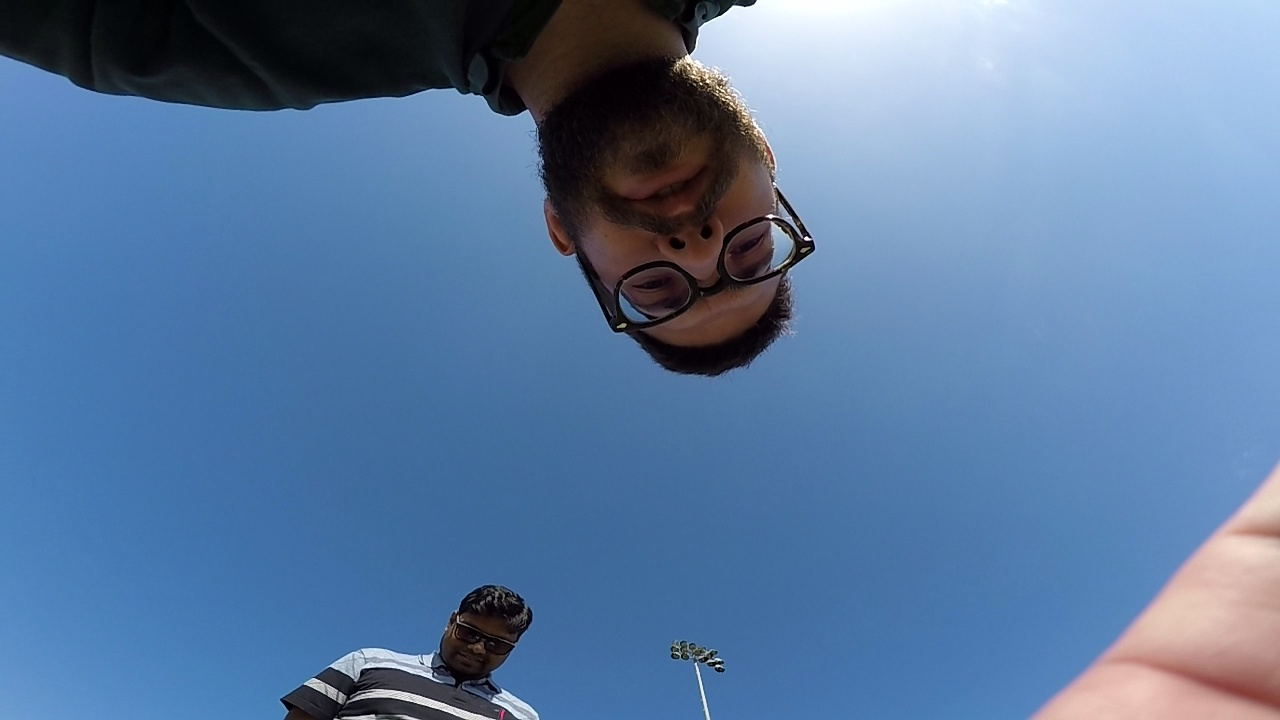person: (104, 43, 804, 598), (10, 9, 785, 407), (358, 473, 1280, 720), (377, 8, 803, 394), (0, 12, 679, 113), (1037, 482, 1274, 713), (268, 585, 534, 719)
